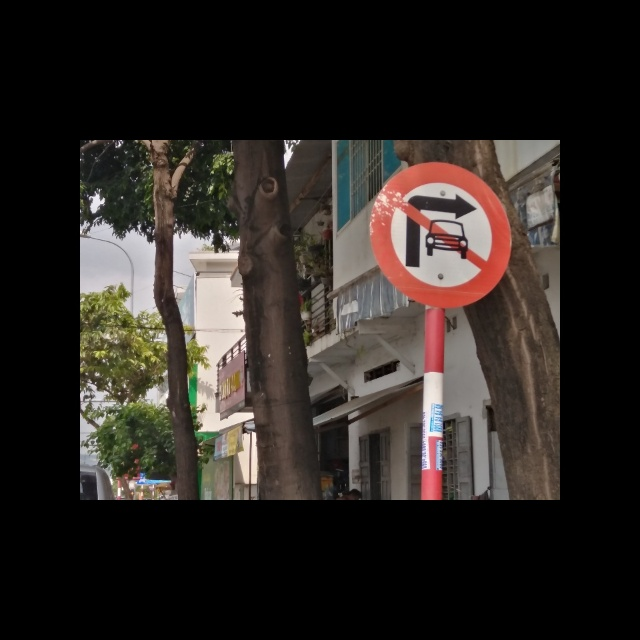Cấm xe ô tô rẽ trái: (367, 158, 514, 305)
